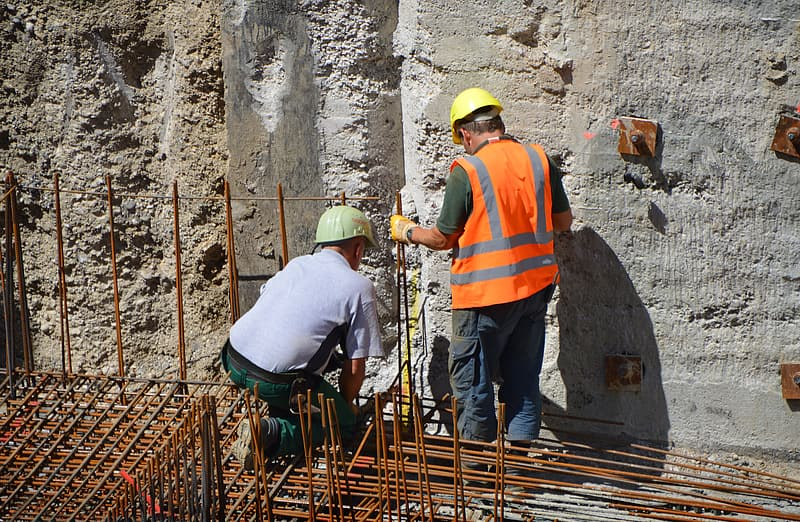Hard Hat: (312, 209, 379, 270), (444, 89, 508, 152)
Person: (389, 91, 573, 444), (224, 208, 387, 463)
Vest: (449, 123, 565, 310)
